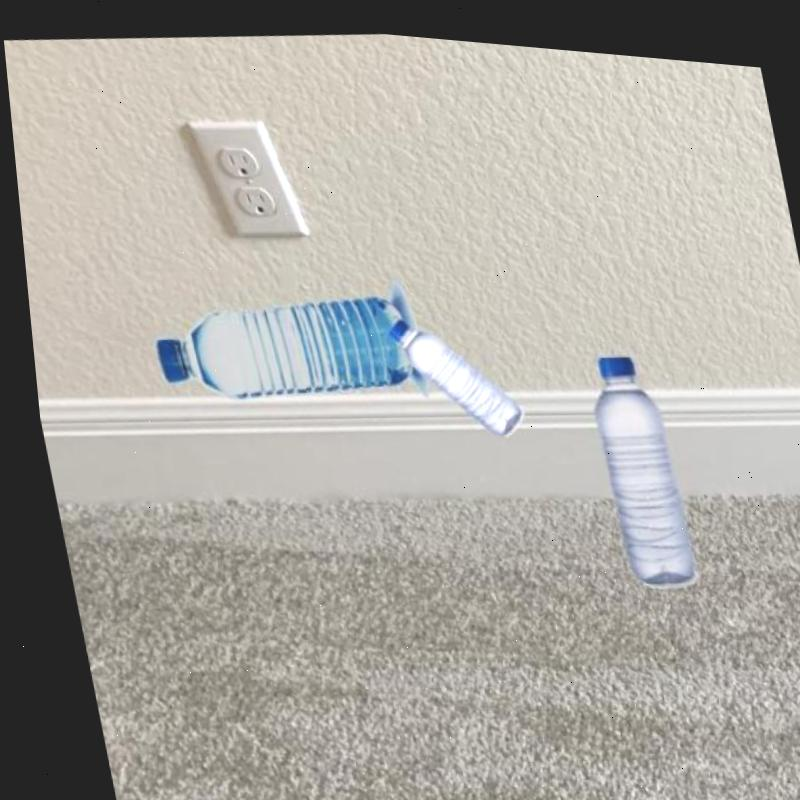botella: (139, 273, 413, 416), (578, 340, 694, 580), (379, 301, 521, 441)
